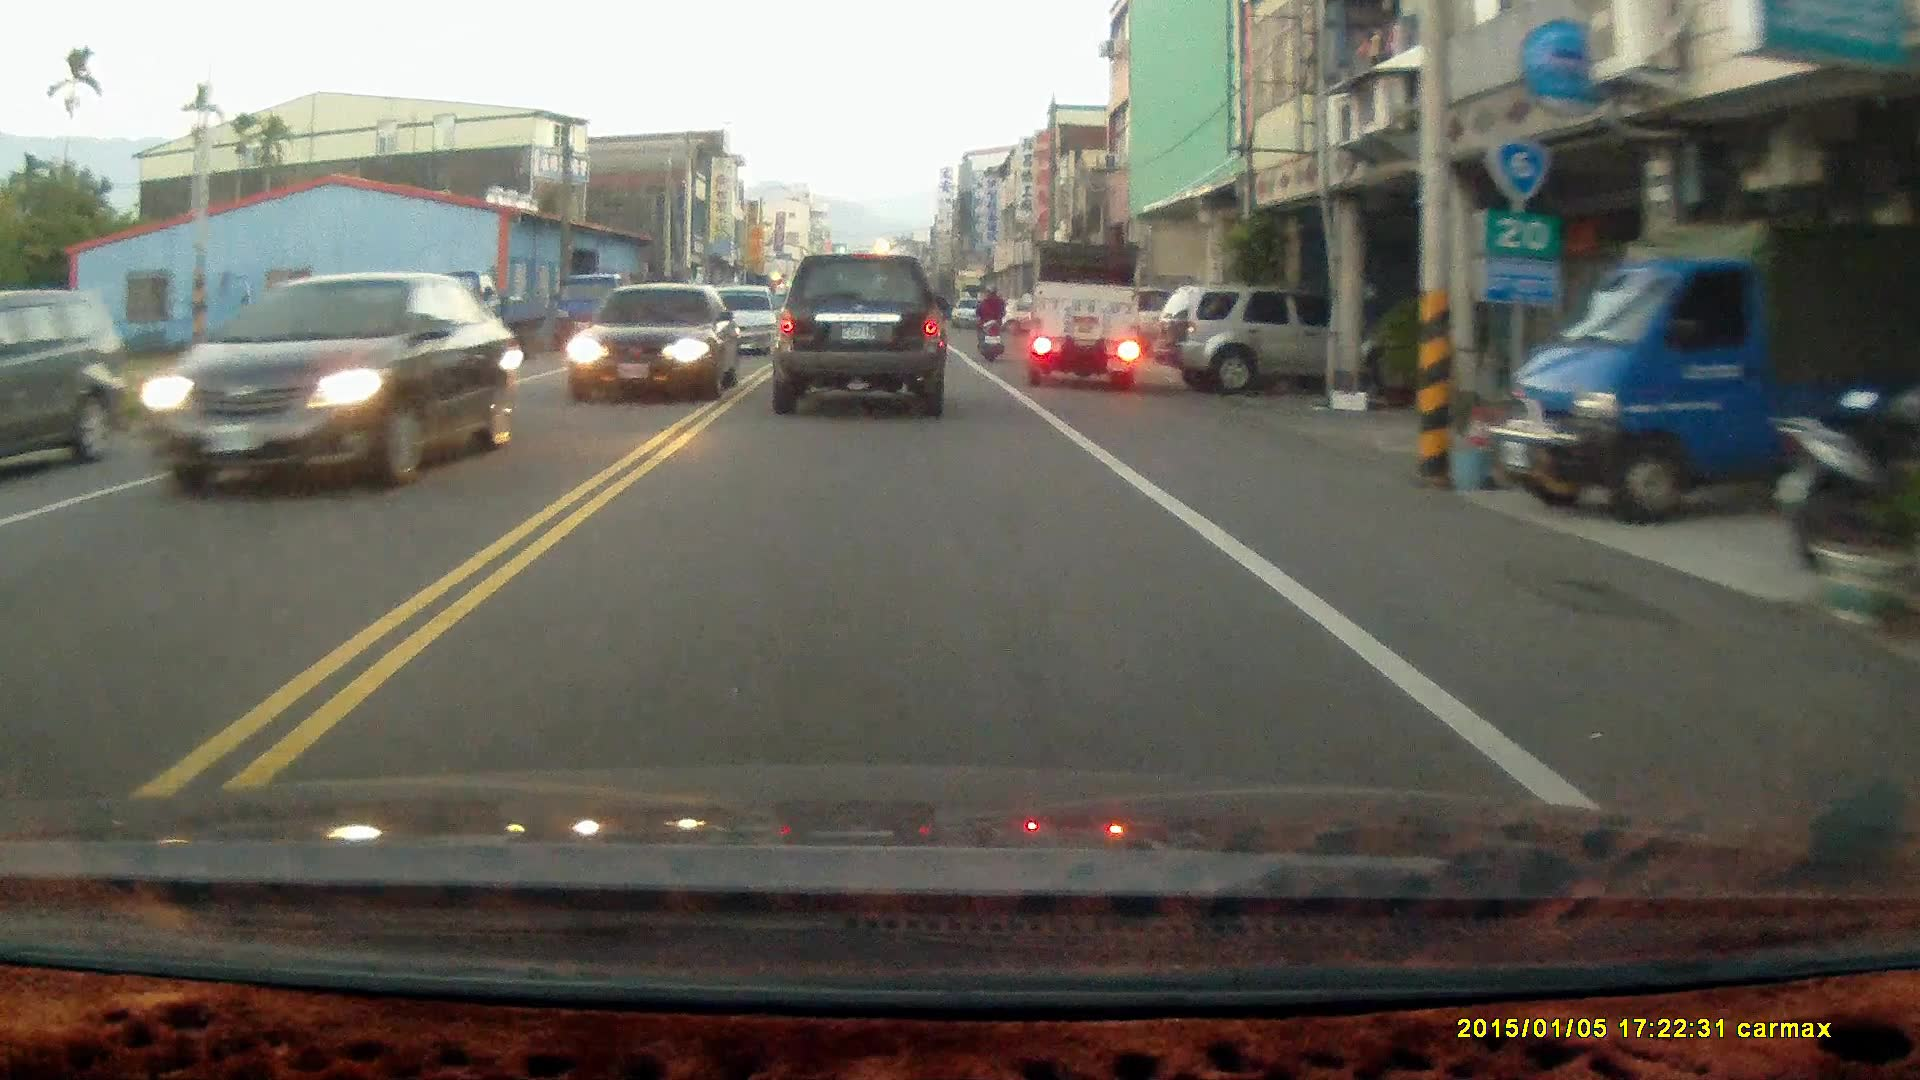rider: (973, 285, 1006, 363)
vehicle: (1497, 181, 1873, 539), (137, 266, 521, 499), (768, 263, 948, 428), (1, 288, 134, 488), (567, 285, 743, 409), (1152, 288, 1338, 401), (1029, 248, 1142, 394)
